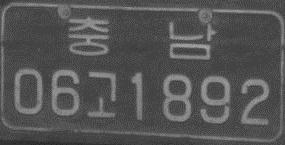0: (13, 67, 44, 115)
1: (125, 71, 155, 122)
2: (239, 77, 270, 126)
6: (50, 69, 80, 117)
8: (162, 74, 192, 122)
9: (199, 74, 231, 124)
고: (85, 70, 118, 119)
충남_D: (67, 15, 216, 61)
